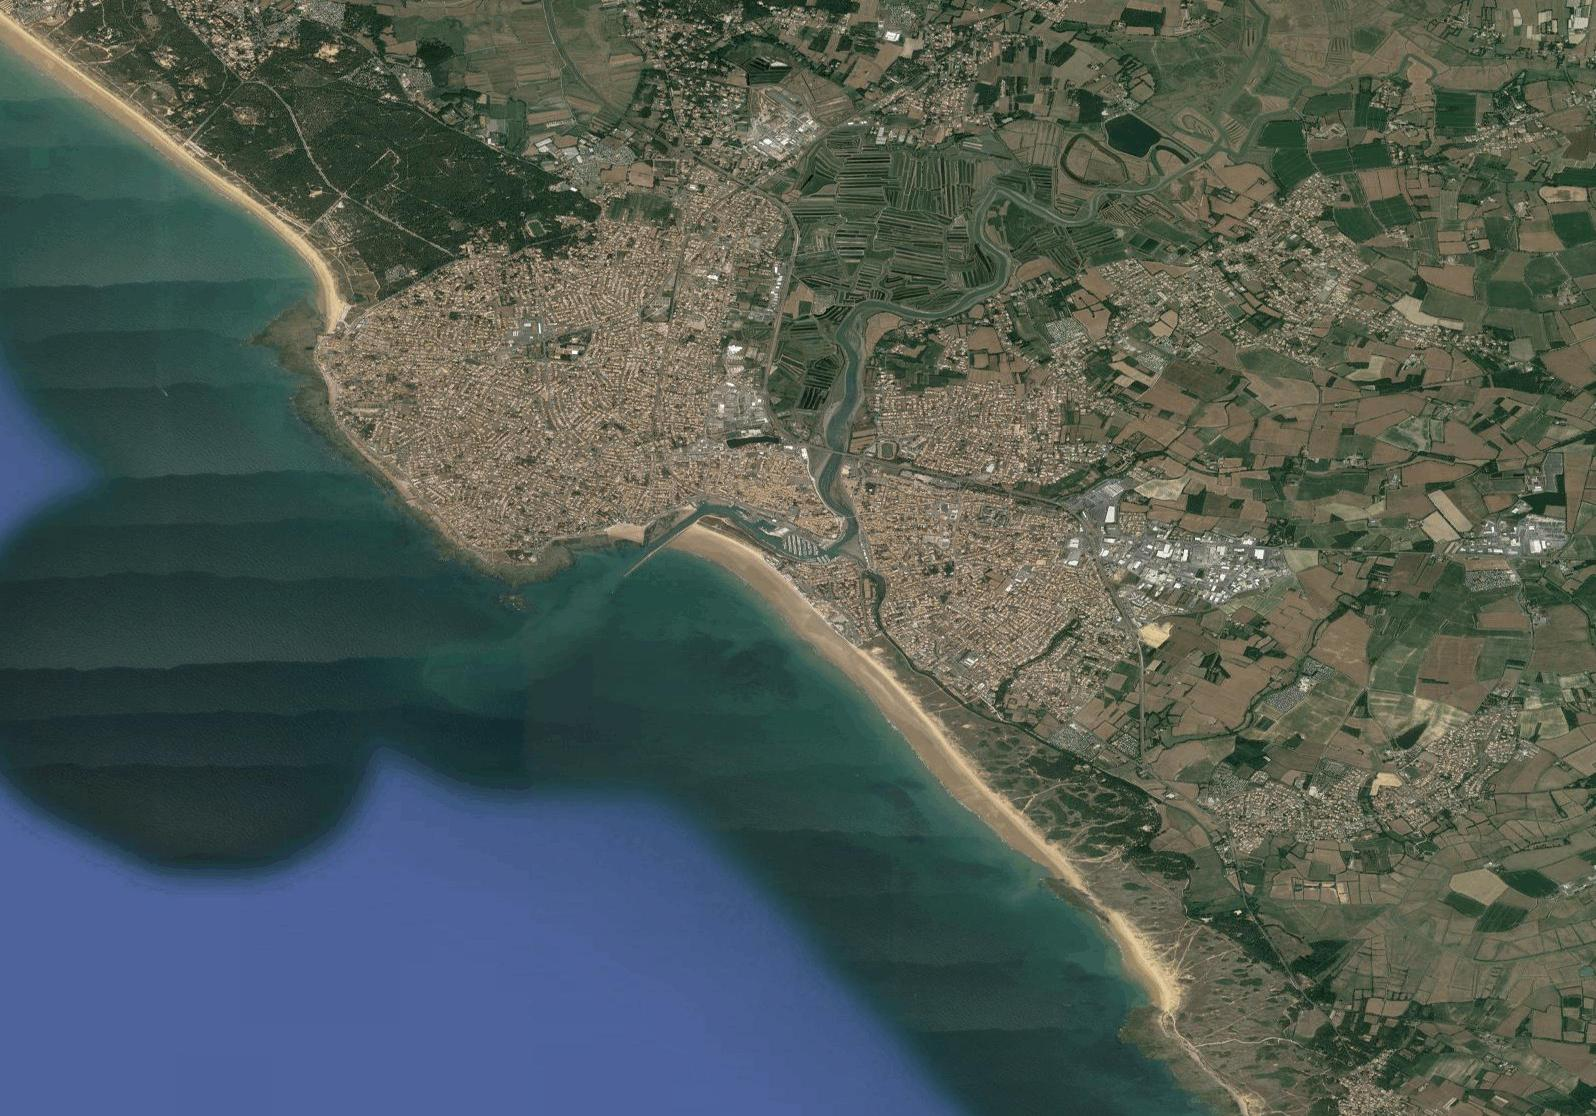harbor: (731, 506, 814, 579)
industrial: (1123, 533, 1265, 605)
motorway: (731, 173, 797, 222), (572, 62, 625, 115), (783, 427, 853, 457), (777, 221, 802, 300), (991, 486, 1065, 511), (762, 297, 786, 368), (680, 143, 731, 176), (925, 468, 990, 494), (1093, 552, 1122, 607), (542, 1, 569, 61), (1066, 509, 1101, 552), (627, 118, 682, 144), (856, 454, 923, 476), (759, 365, 781, 431), (1122, 609, 1146, 664), (1136, 665, 1146, 757)
